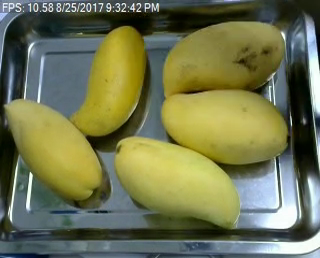Mango: (114, 136, 240, 225), (3, 99, 102, 199), (162, 22, 282, 103), (159, 90, 287, 165), (70, 24, 146, 135)
